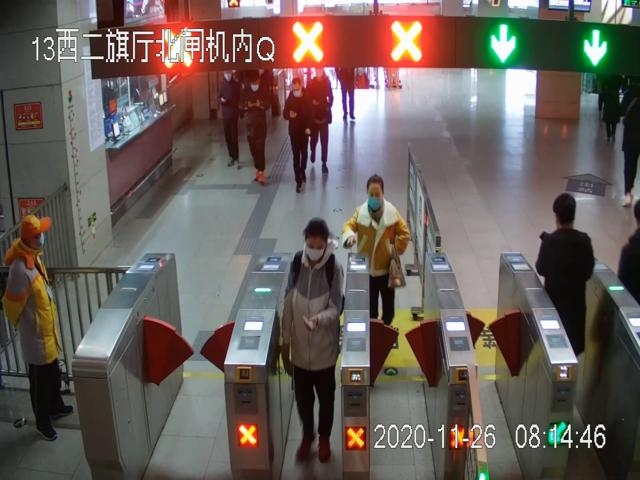person: (4, 213, 74, 443), (281, 217, 344, 463), (536, 193, 596, 368), (345, 175, 409, 339), (239, 73, 274, 185), (283, 77, 314, 192)
